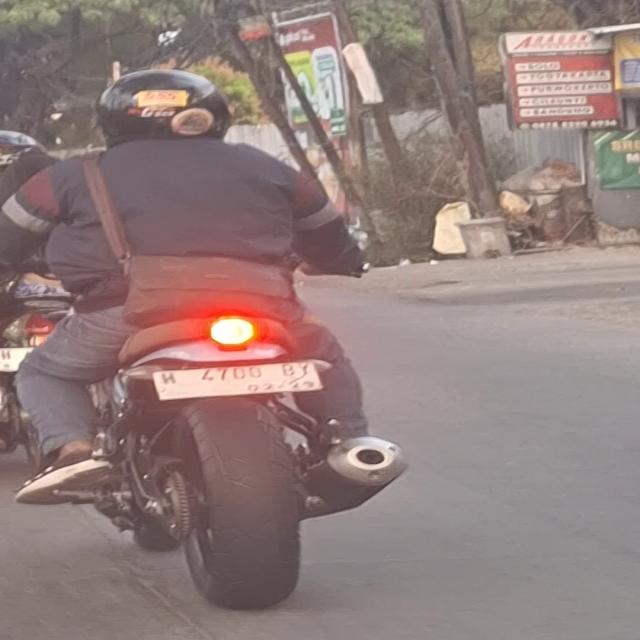WithHelmet: (0, 70, 379, 506), (0, 130, 72, 300)
